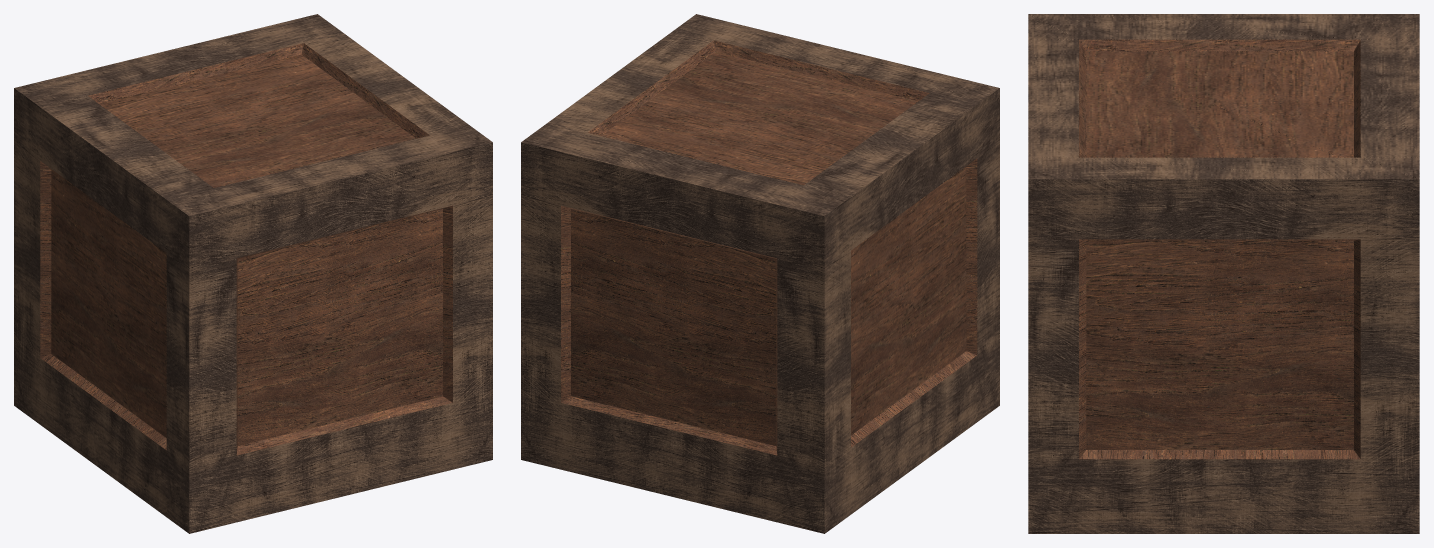
The model's file is WoodCrate1.fbx.
The picture shows the model from 3 angles, left to right: view 1: azimuth 30°, elevation 25°; view 2: azimuth 150°, elevation 25°; view 3: azimuth 270°, elevation 25°; orthographic projection. The views are drawn at different scales.
Visible parts, largest first — view 1: WoodCrate1; view 2: WoodCrate1; view 3: WoodCrate1.
Boxes of the visible parts, bbox=[...] form: WoodCrate1: bbox=[14, 14, 492, 533]; WoodCrate1: bbox=[521, 14, 999, 533]; WoodCrate1: bbox=[1028, 14, 1419, 533].
Size of the model in its own units: 211 by 211 by 211.
